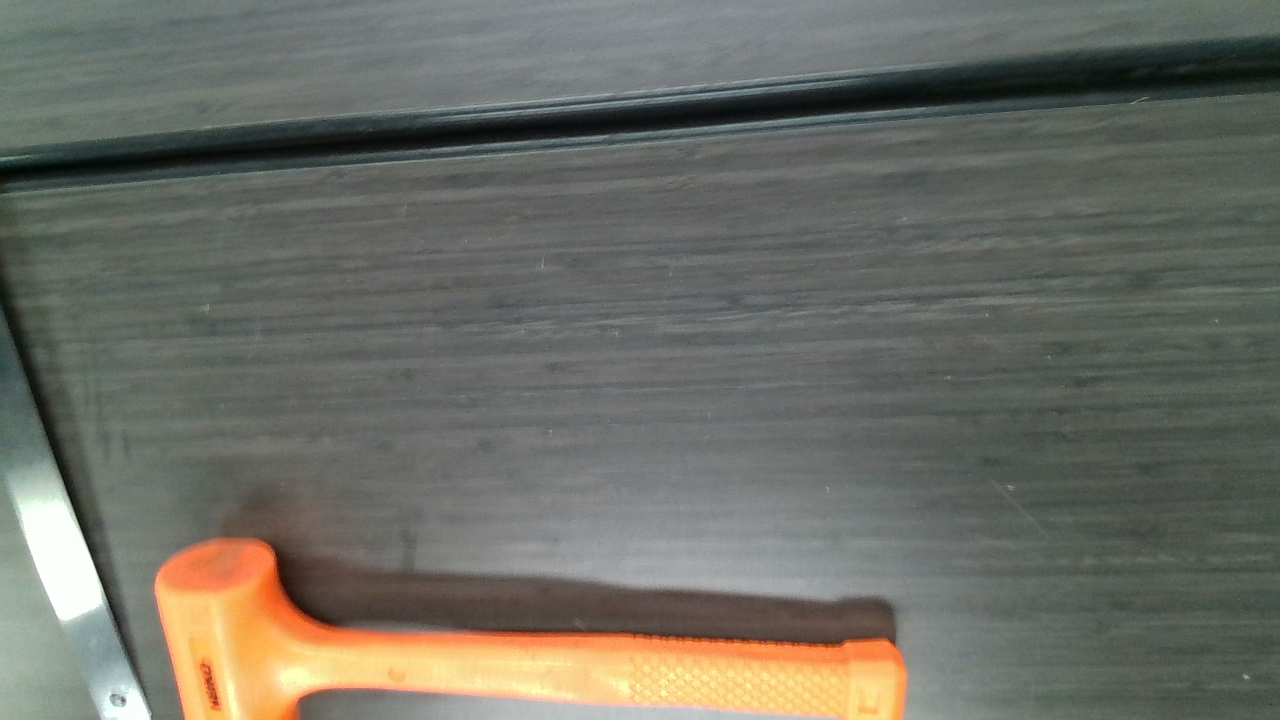Orange Hammer: (161, 538, 907, 718)
